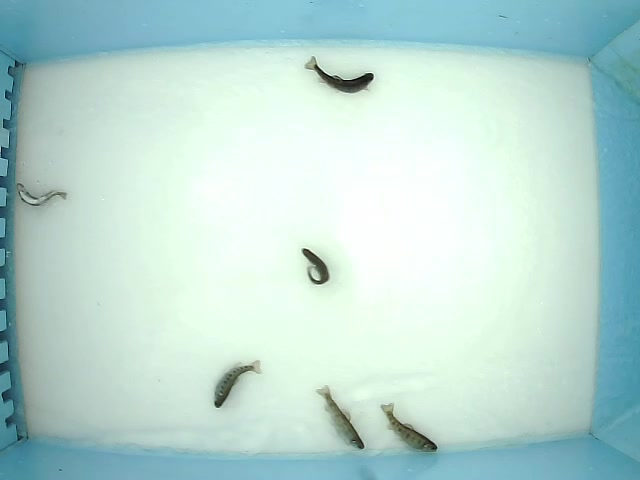fish: (314, 382, 367, 452), (379, 401, 439, 454), (303, 54, 376, 96), (213, 359, 263, 409), (14, 180, 68, 208), (300, 247, 331, 286)
